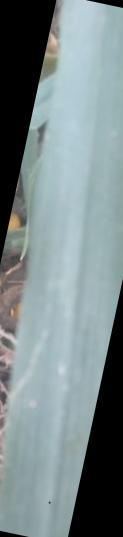Wheat: (66, 19, 123, 247), (22, 318, 68, 526), (29, 261, 111, 313)
